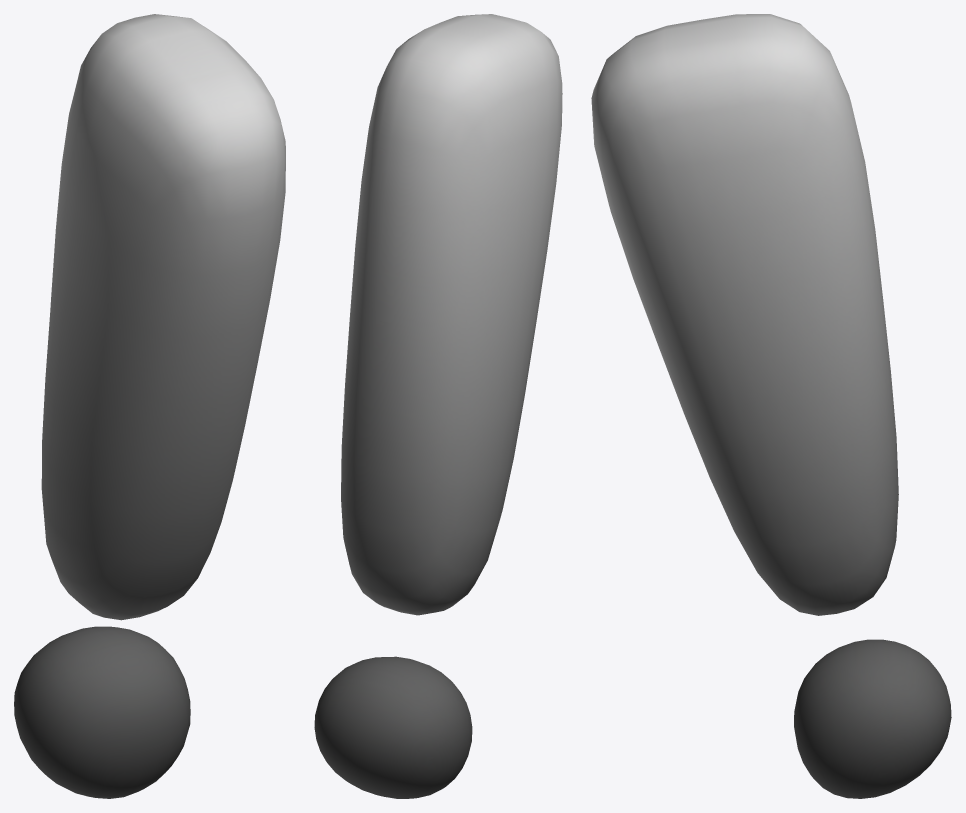
The model's file is ExclamationMarkTripleBWThree.dae.
3 renders of one model, left to right at view 1: azimuth 30°, elevation 25°; view 2: azimuth 150°, elevation 25°; view 3: azimuth 270°, elevation 25°, orthographic. The views are drawn at different scales.
Parts seen in each view (by area): view 1: Cube_002; view 2: Cube_002; view 3: Cube_002.
Part boxes in pixels (left/top/right/bottom): Cube_002: left=14, top=14, right=285, bottom=798; Cube_002: left=314, top=14, right=562, bottom=798; Cube_002: left=591, top=14, right=951, bottom=798.
Size of the model in its own units: 0.406 by 0.8043 by 1.88.
1 material, 1 textured.
